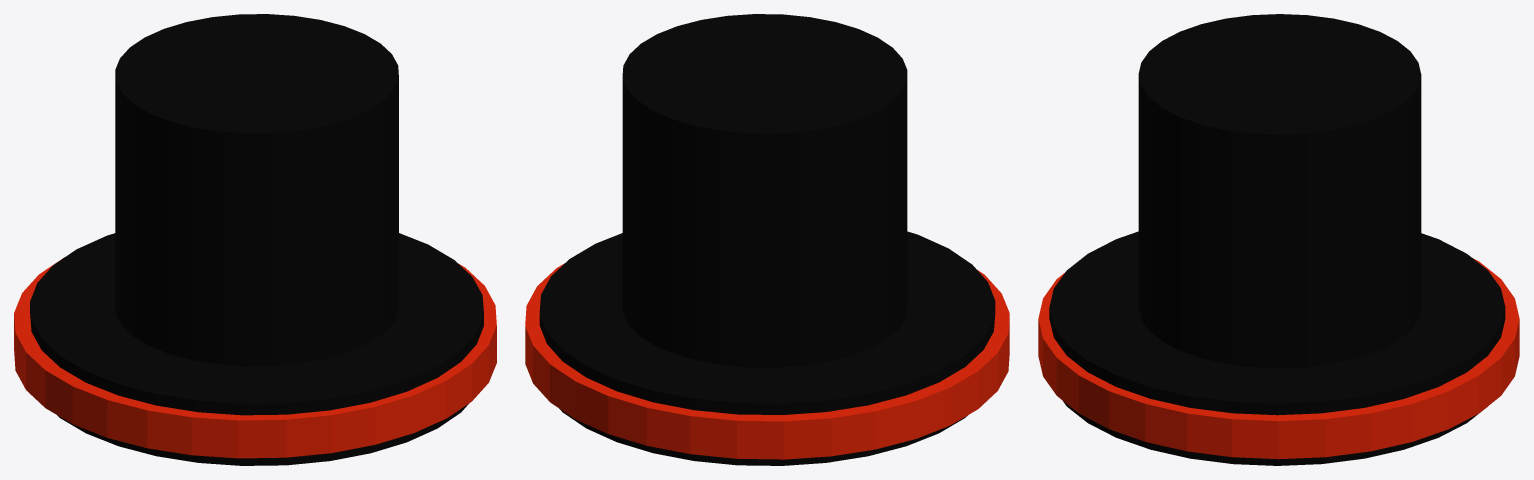
File: low poly top hat.fbx
The picture shows the model from 3 angles, left to right: view 1: azimuth 30°, elevation 25°; view 2: azimuth 150°, elevation 25°; view 3: azimuth 270°, elevation 25°; orthographic projection.
Parts seen in each view (by area): view 1: Cylinder.001, Cylinder, Cylinder.002; view 2: Cylinder.001, Cylinder, Cylinder.002; view 3: Cylinder.001, Cylinder, Cylinder.002.
Part boxes in pixels (box(x1,y1,x2,y2)): Cylinder.001: box(115, 14, 398, 366); Cylinder: box(30, 233, 483, 465); Cylinder.002: box(14, 257, 496, 458); Cylinder.001: box(622, 14, 907, 367); Cylinder: box(539, 231, 995, 465); Cylinder.002: box(525, 263, 1009, 459); Cylinder.001: box(1138, 14, 1421, 368); Cylinder: box(1049, 231, 1505, 465); Cylinder.002: box(1038, 258, 1519, 459).
Size of the model in its own units: 213 by 143 by 211.
